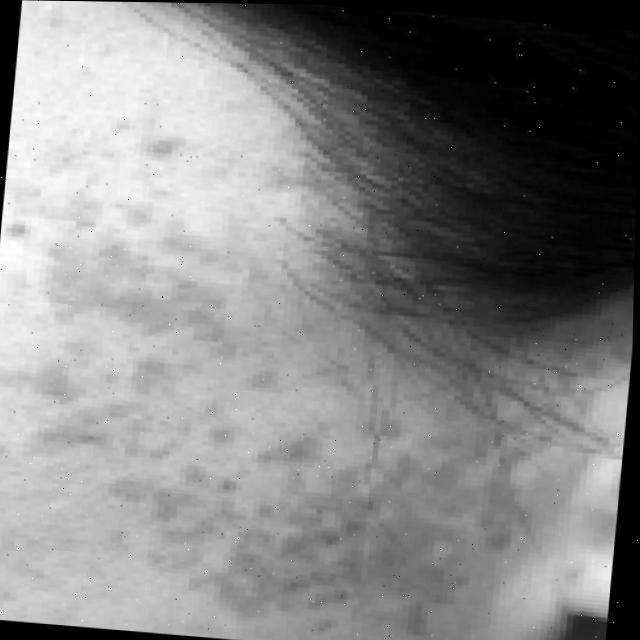Melasma: (28, 224, 573, 640)
